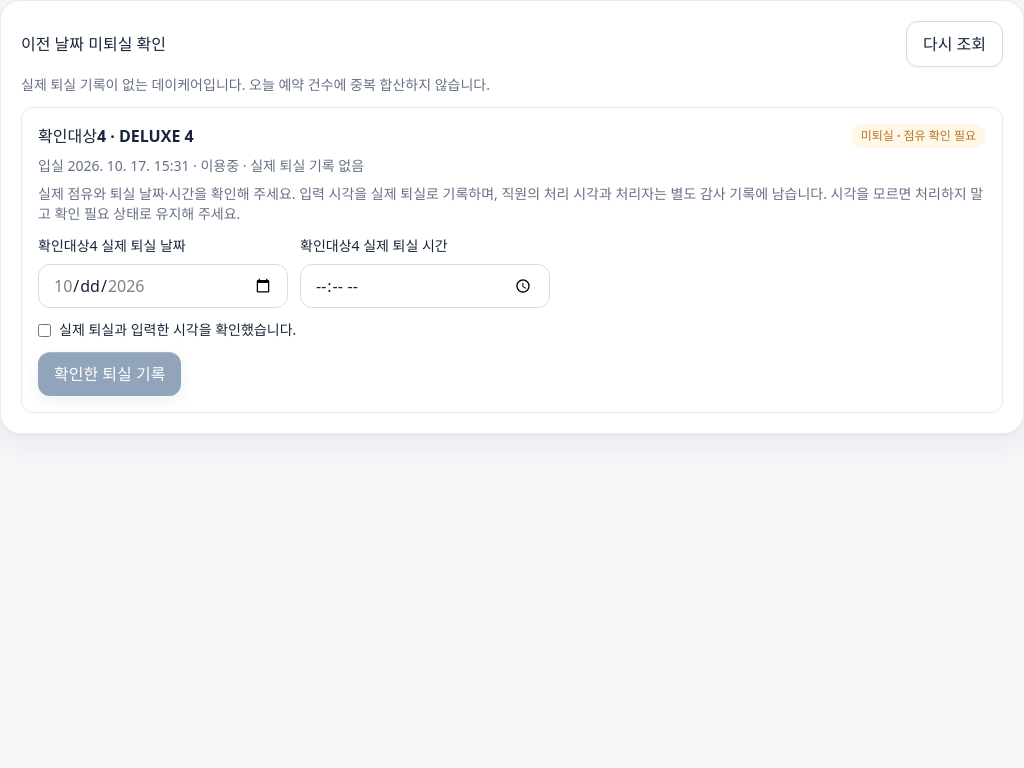
Test case: keeps a failed checkout visible, refreshes state and requires verification again
Type "2026-10-17" into the date field labelled "확인대상4 실제 퇴실 날짜" at (163, 286), box [38,264,288,308]
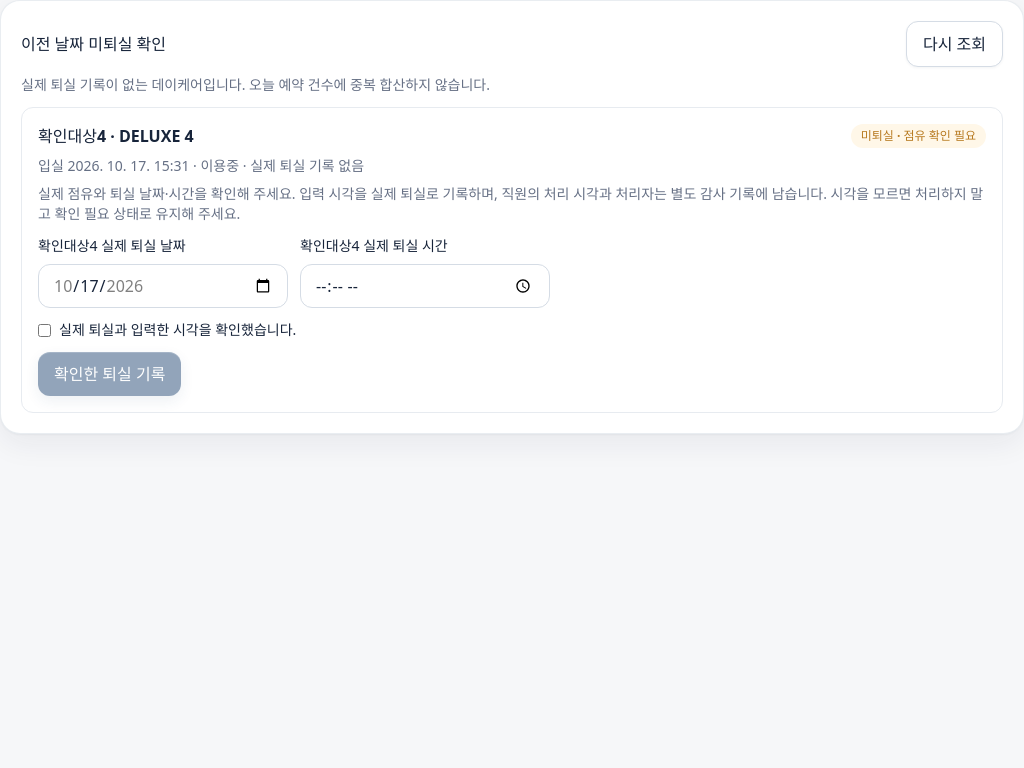
Type "18:00" into the time field labelled "확인대상4 실제 퇴실 시간" at (425, 286), box [300,264,550,308]
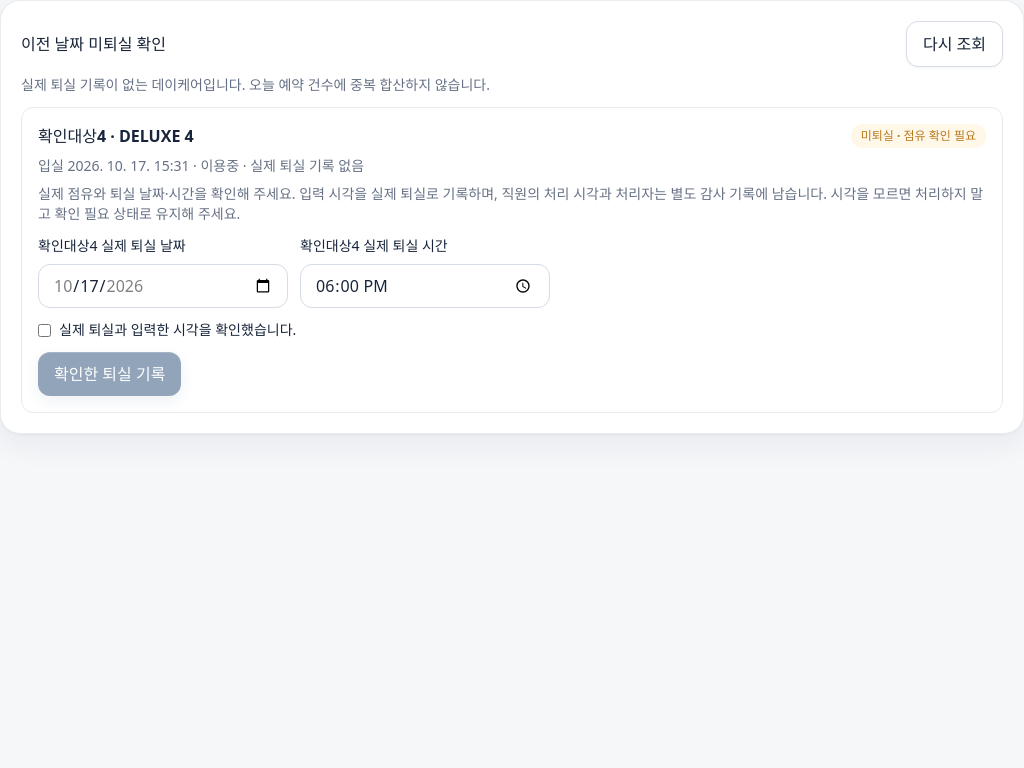
Click the checkbox at (44, 330), box [38,324,51,337]
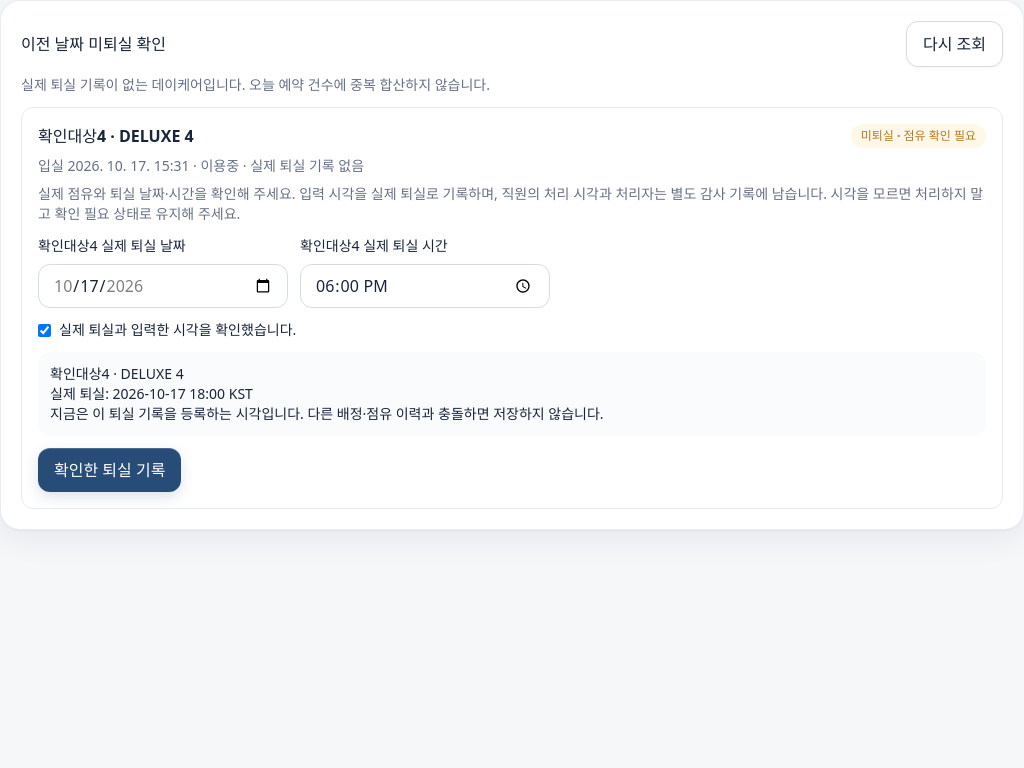
Click the button "확인한 퇴실 기록" at (110, 470), box [38,448,181,492]
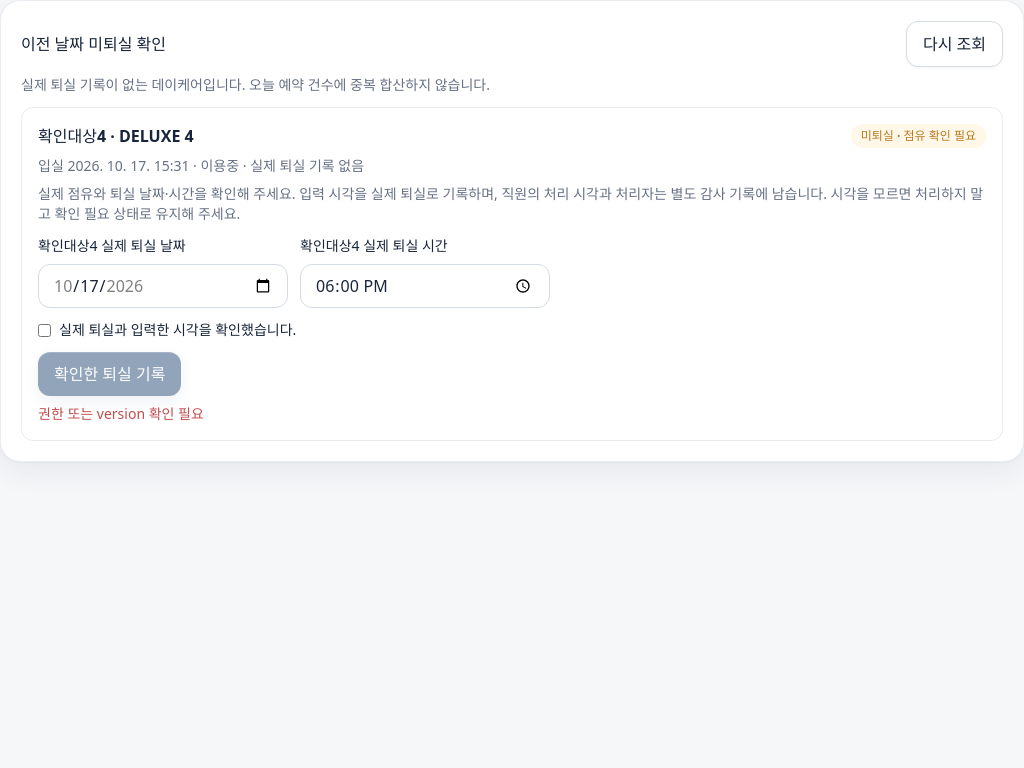
Expected: the text "확인대상4 · DELUXE 4" is shown, [38,124,194,148]
Now the message shows "권한 또는 version", box [38,404,204,423]
Now the button "확인한 퇴실 기록" is disabled, box [38,352,181,396]
